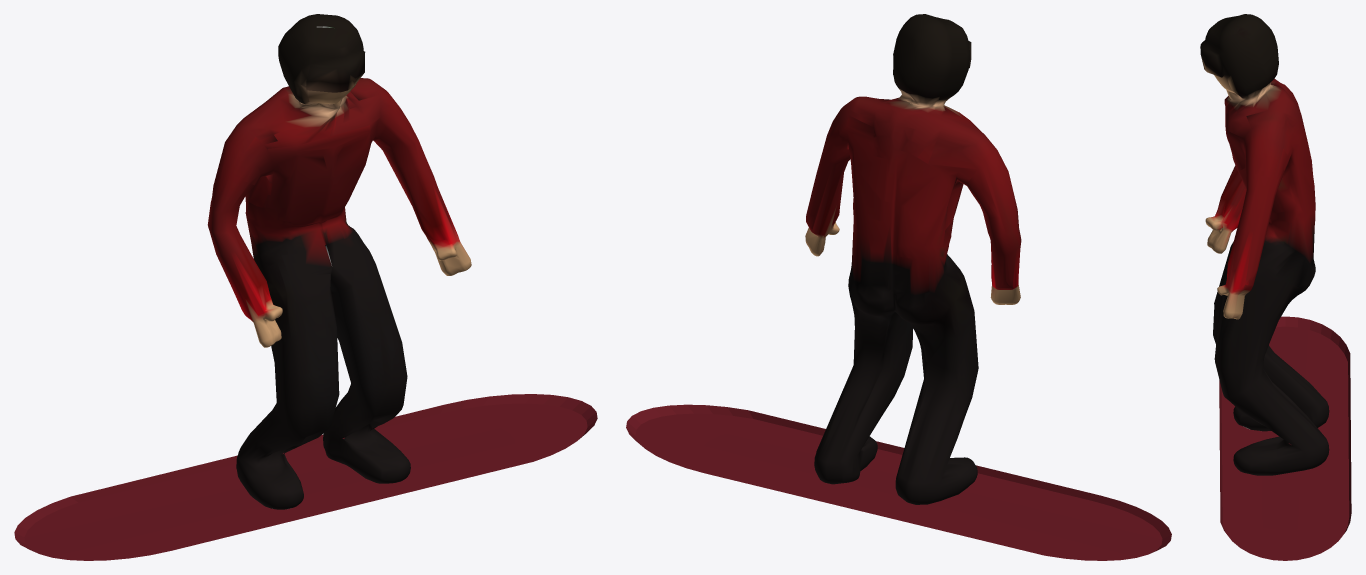
The model's file is postpose.gltf.
3 views of the same model, side by side, from view 1: azimuth 30°, elevation 25°; view 2: azimuth 150°, elevation 25°; view 3: azimuth 270°, elevation 25° (orthographic). The views are drawn at different scales.
Parts seen in each view (by area): view 1: Cube; view 2: Cube; view 3: Cube.
Boxes of the visible parts, bbox=[...] form: Cube: bbox=[14, 14, 597, 560]; Cube: bbox=[626, 14, 1171, 560]; Cube: bbox=[1200, 14, 1351, 560].
Size of the model in its own units: 5.29 by 4.31 by 1.39.
